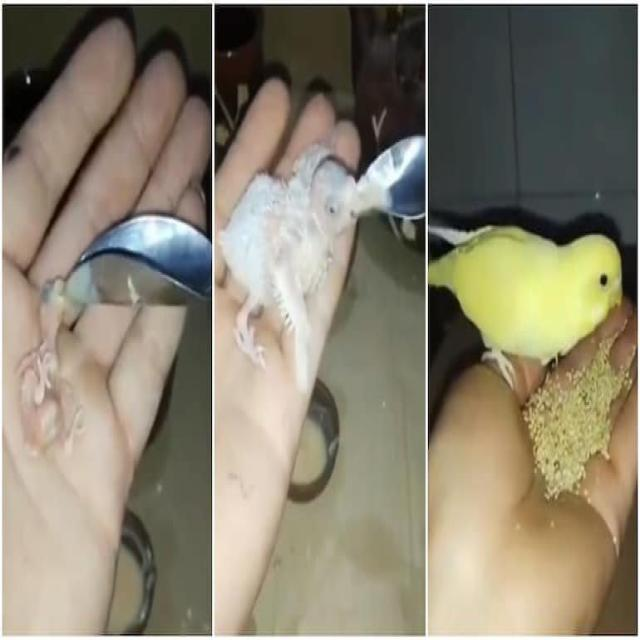Parrot: (223, 150, 359, 370), (440, 226, 626, 373), (16, 274, 82, 453)
